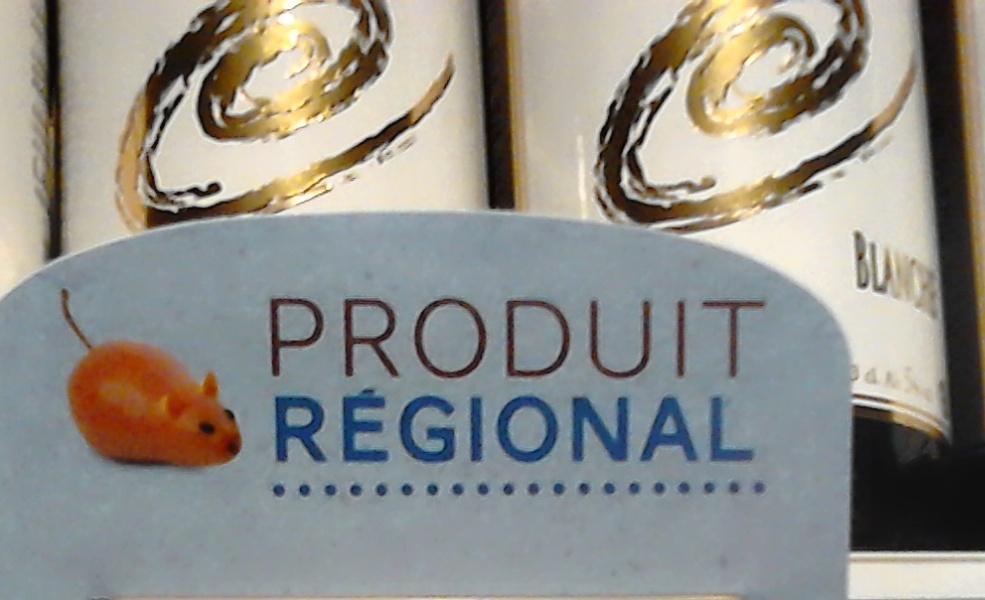text: (849, 214, 864, 334), (865, 214, 880, 334), (881, 214, 896, 334), (897, 214, 912, 334), (913, 214, 928, 334), (929, 214, 944, 334), (753, 289, 769, 381), (273, 289, 288, 381), (289, 289, 304, 381), (305, 289, 320, 381), (321, 289, 336, 381), (337, 289, 352, 381), (353, 289, 368, 381), (369, 289, 384, 381), (385, 289, 400, 381), (401, 289, 416, 381), (417, 289, 432, 381), (433, 289, 448, 381), (449, 289, 464, 381), (465, 289, 480, 381), (481, 289, 496, 381), (497, 289, 512, 381), (513, 289, 528, 381), (529, 289, 544, 381), (545, 289, 560, 381), (561, 289, 576, 381), (577, 289, 592, 381), (593, 289, 608, 381), (609, 289, 624, 381), (625, 289, 640, 381), (641, 289, 656, 381), (657, 289, 672, 381), (673, 289, 688, 381), (689, 289, 704, 381), (705, 289, 720, 381), (721, 289, 736, 381), (737, 289, 752, 381), (273, 386, 288, 469), (289, 386, 304, 469), (305, 386, 320, 469), (321, 386, 336, 469), (337, 386, 352, 469), (353, 386, 368, 469), (369, 386, 384, 469), (385, 386, 400, 469), (401, 386, 416, 469), (417, 386, 432, 469), (433, 386, 448, 469), (449, 386, 464, 469), (465, 386, 480, 469), (481, 386, 496, 469), (497, 386, 512, 469), (513, 386, 528, 469), (529, 386, 544, 469), (545, 386, 560, 469), (561, 386, 576, 469), (577, 386, 592, 469), (593, 386, 608, 469), (609, 386, 624, 469), (625, 386, 640, 469), (641, 386, 656, 469), (657, 386, 672, 469), (673, 386, 688, 469), (689, 386, 704, 469), (705, 386, 720, 469), (721, 386, 736, 469), (737, 386, 752, 469), (261, 289, 272, 381), (753, 386, 762, 469), (865, 362, 880, 408), (881, 362, 896, 408), (897, 362, 912, 408), (913, 362, 928, 408), (929, 362, 939, 408), (945, 214, 948, 334), (857, 362, 864, 408), (847, 214, 848, 334), (271, 386, 272, 469)
